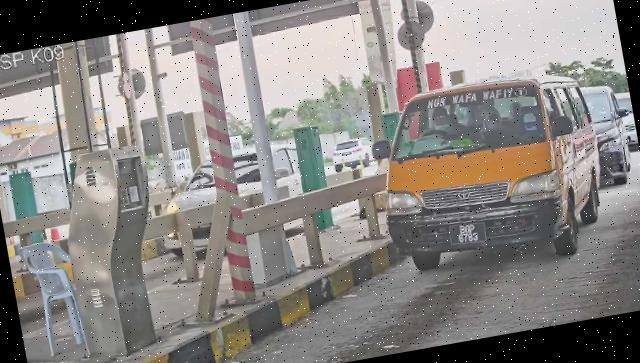License_Plate: (447, 218, 490, 250)
van: (366, 63, 615, 287)
